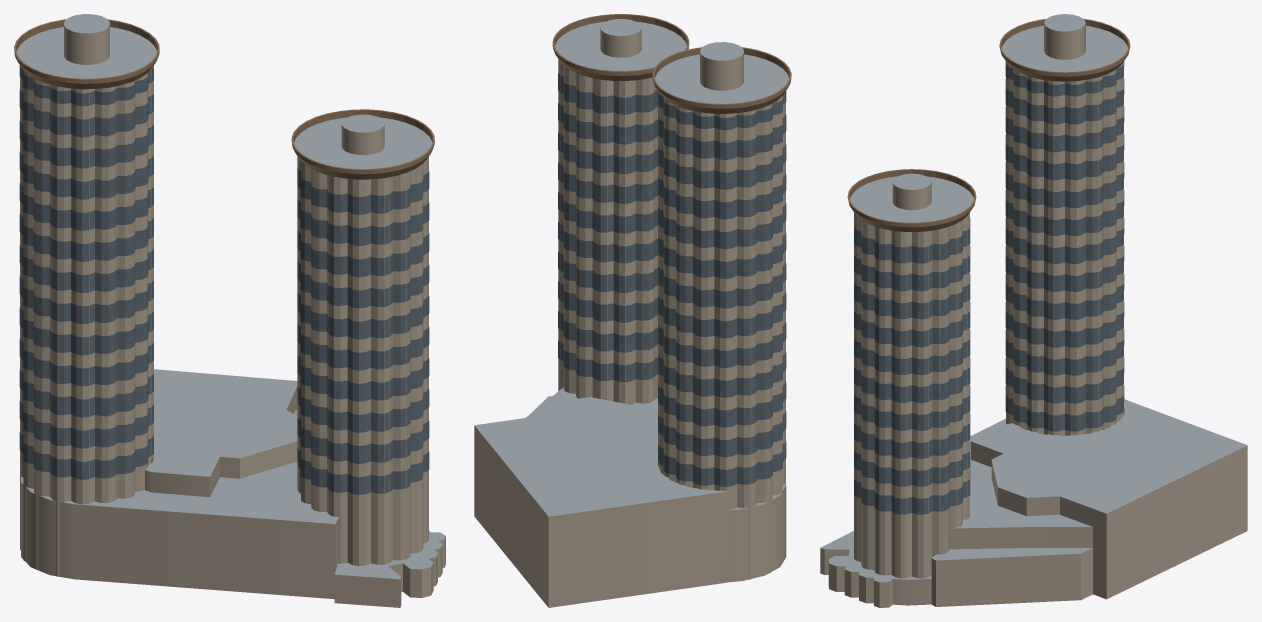
The model's file is detail.glb.
The picture shows the model from 3 angles, left to right: view 1: azimuth 30°, elevation 25°; view 2: azimuth 150°, elevation 25°; view 3: azimuth 270°, elevation 25°; orthographic projection. The views are drawn at different scales.
Parts seen in each view (by area): view 1: the-westin-seattle; view 2: the-westin-seattle; view 3: the-westin-seattle.
Part boxes in pixels (x1=…): the-westin-seattle: x1=14, y1=14, x2=445, y2=607; the-westin-seattle: x1=474, y1=14, x2=791, y2=607; the-westin-seattle: x1=820, y1=14, x2=1247, y2=607.
Size of the model in its own units: 93.3 by 148 by 121.
